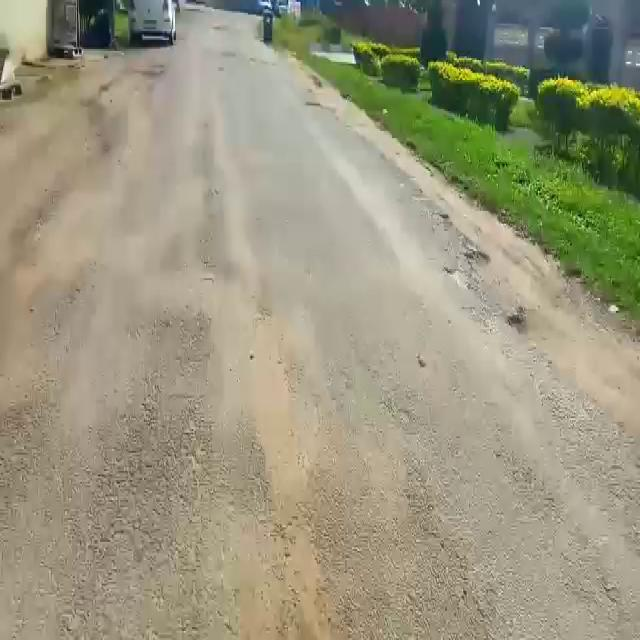Pothole: (462, 248, 495, 269)
